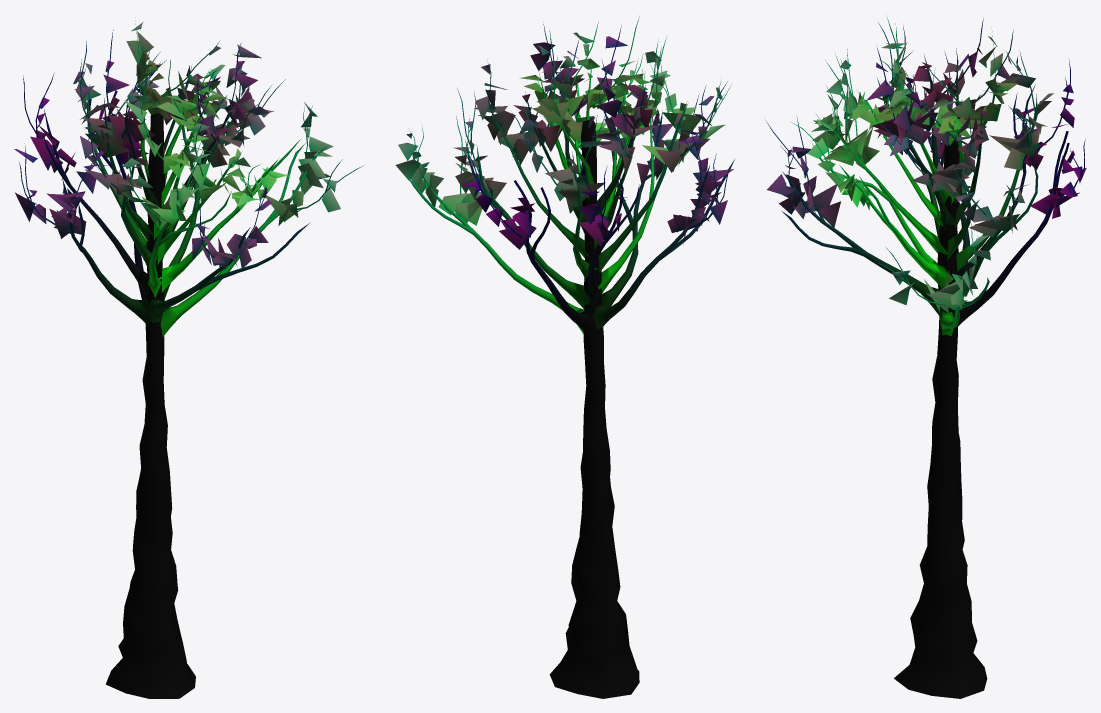
Rendered from arbol_LOD0.fbx.
3 renders of one model, left to right at view 1: azimuth 30°, elevation 25°; view 2: azimuth 150°, elevation 25°; view 3: azimuth 270°, elevation 25°, orthographic.
Parts seen in each view (by area): view 1: _0, _1; view 2: _0, _1; view 3: _0, _1.
Boxes of the visible parts, left/top/right/bottom form: _0: left=19, top=24, right=363, bottom=698; _1: left=14, top=22, right=340, bottom=269; _0: left=406, top=16, right=734, bottom=698; _1: left=395, top=32, right=733, bottom=249; _0: left=766, top=17, right=1085, bottom=698; _1: left=767, top=36, right=1086, bottom=312.
Size of the model in its own units: 92.05 by 174 by 77.45.
